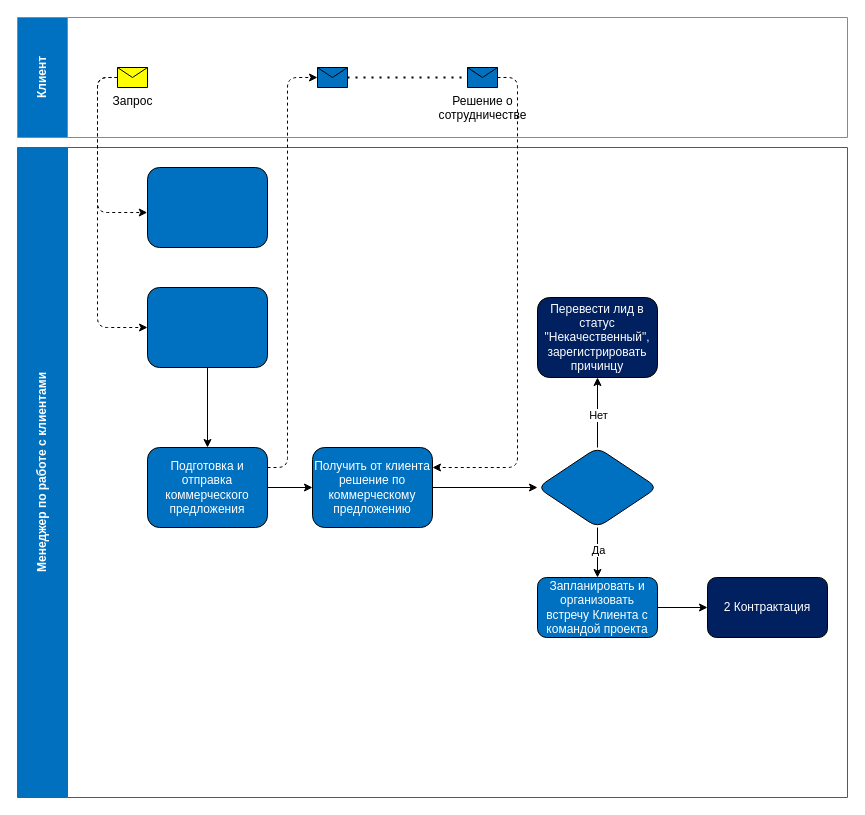
This 865x815 diagram has some shape labels left out. Here are the shapes that lost their labels. From the top down, the centre of each, then its label:
At pixel 332 77: "Коммерческое предложение".
At pixel 207 207: "Зарегистрировать новый лид".
At pixel 207 327: "Зарегистрировать обращение, потребность и источник привлечения".
At pixel 597 487: "Сотрудничаем?".
